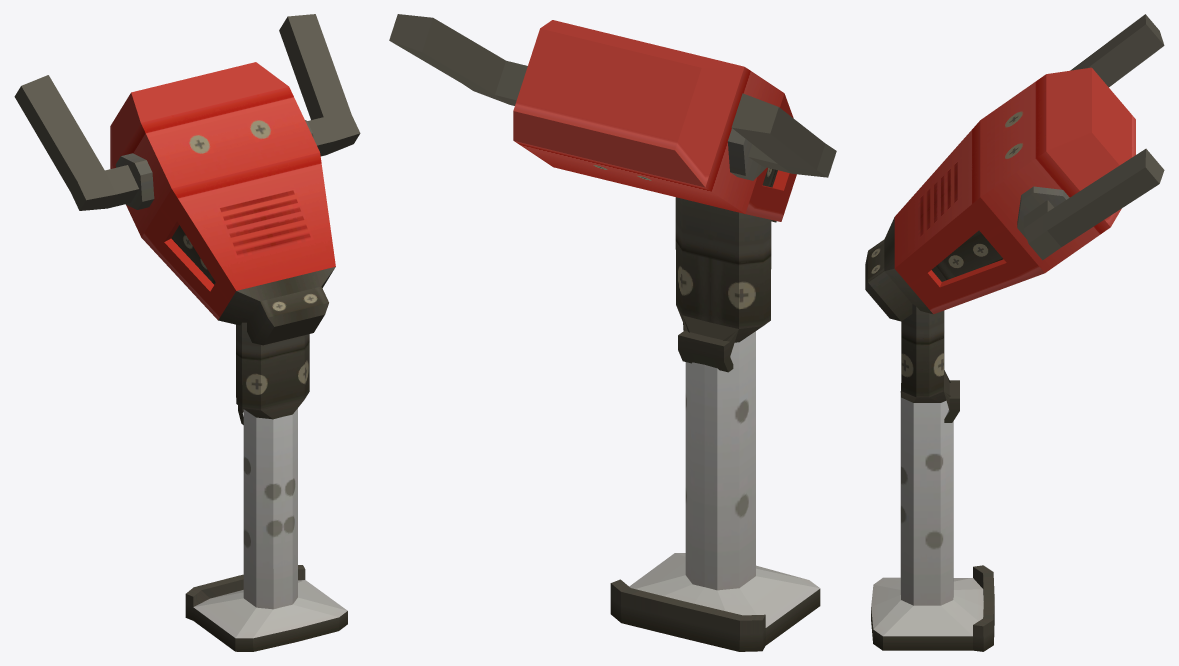
File: Improved_Compactor_Empty.fbx
3 views of the same model, side by side, from view 1: azimuth 30°, elevation 25°; view 2: azimuth 150°, elevation 25°; view 3: azimuth 270°, elevation 25° (orthographic). The views are drawn at different scales.
Visible parts, largest first — view 1: CompactorHandle, CompactorWack; view 2: CompactorHandle, CompactorWack; view 3: CompactorHandle, CompactorWack.
Part boxes in pixels (<box>): CompactorHandle: <box>14,14,360,345</box>; CompactorWack: <box>185,322,347,651</box>; CompactorHandle: <box>389,14,836,222</box>; CompactorWack: <box>610,197,820,651</box>; CompactorHandle: <box>865,14,1164,321</box>; CompactorWack: <box>871,304,994,651</box>.
Size of the model in its own units: 1.04 by 1.69 by 0.8547.
Materials: 1 (1 with a texture image).
